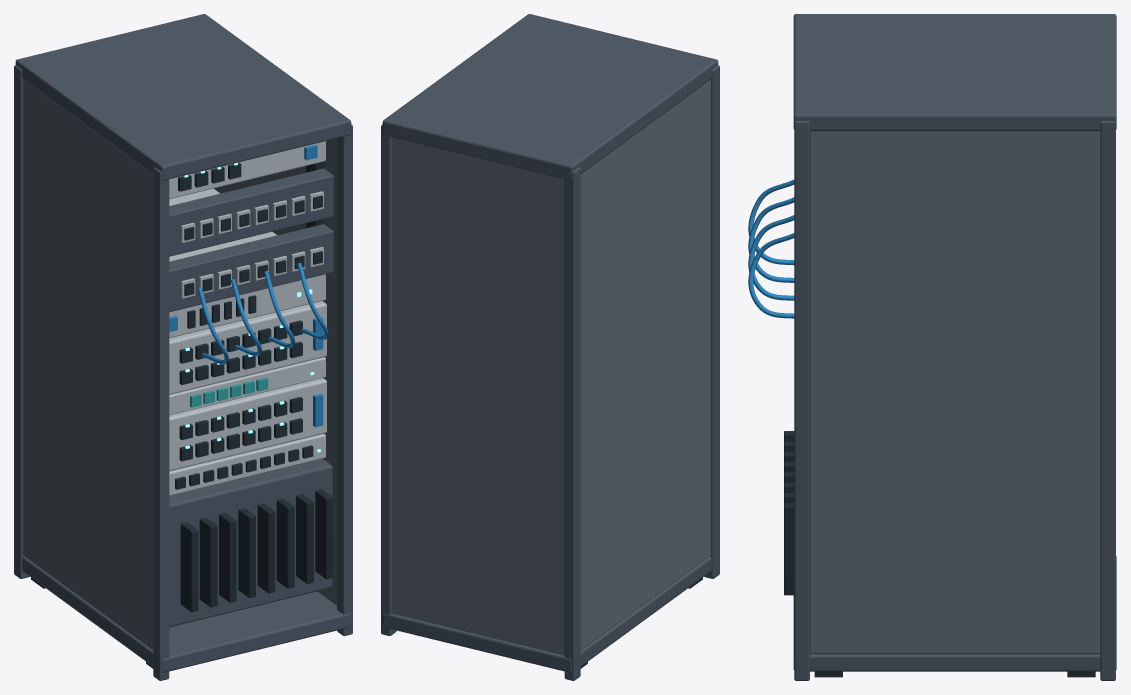
File: network-rack.glb
3 renders of one model, left to right at view 1: azimuth 30°, elevation 25°; view 2: azimuth 150°, elevation 25°; view 3: azimuth 270°, elevation 25°, orthographic. The views are drawn at different scales.
Parts seen in each view (by area): view 1: enclosure_Cabinet_panels, rack_frame_Graphite_steel, part_cable_manager, part_patch_panel, part_standby_switch, part_forwarding_unit, part_firewall, part_mgmt_switch, part_storage_switch, part_edge_router, part_patch_leads, part_storage_ports (+2 smaller); view 2: enclosure_Cabinet_panels, rack_frame_Graphite_steel; view 3: enclosure_Cabinet_panels, rack_frame_Graphite_steel, part_patch_leads, part_cable_manager.
Part boxes in pixels (x1=…): enclosure_Cabinet_panels: x1=23, y1=79, x2=336, y2=650; rack_frame_Graphite_steel: x1=14, y1=14, x2=352, y2=680; part_cable_manager: x1=169, y1=458, x2=332, y2=627; part_patch_panel: x1=169, y1=168, x2=333, y2=312; part_standby_switch: x1=169, y1=378, x2=326, y2=471; part_forwarding_unit: x1=169, y1=301, x2=326, y2=394; part_firewall: x1=169, y1=188, x2=325, y2=338; part_mgmt_switch: x1=169, y1=433, x2=325, y2=495; part_storage_switch: x1=169, y1=357, x2=325, y2=415; part_edge_router: x1=169, y1=141, x2=325, y2=199; part_patch_leads: x1=197, y1=161, x2=328, y2=459; part_storage_ports: x1=258, y1=320, x2=302, y2=365; enclosure_Cabinet_panels: x1=392, y1=79, x2=710, y2=655; rack_frame_Graphite_steel: x1=381, y1=14, x2=719, y2=680; enclosure_Cabinet_panels: x1=810, y1=131, x2=1100, y2=654; rack_frame_Graphite_steel: x1=793, y1=14, x2=1116, y2=680; part_patch_leads: x1=748, y1=179, x2=794, y2=318; part_cable_manager: x1=784, y1=431, x2=794, y2=595.
Size of the model in its own units: 0.875 by 2.22 by 1.31.
